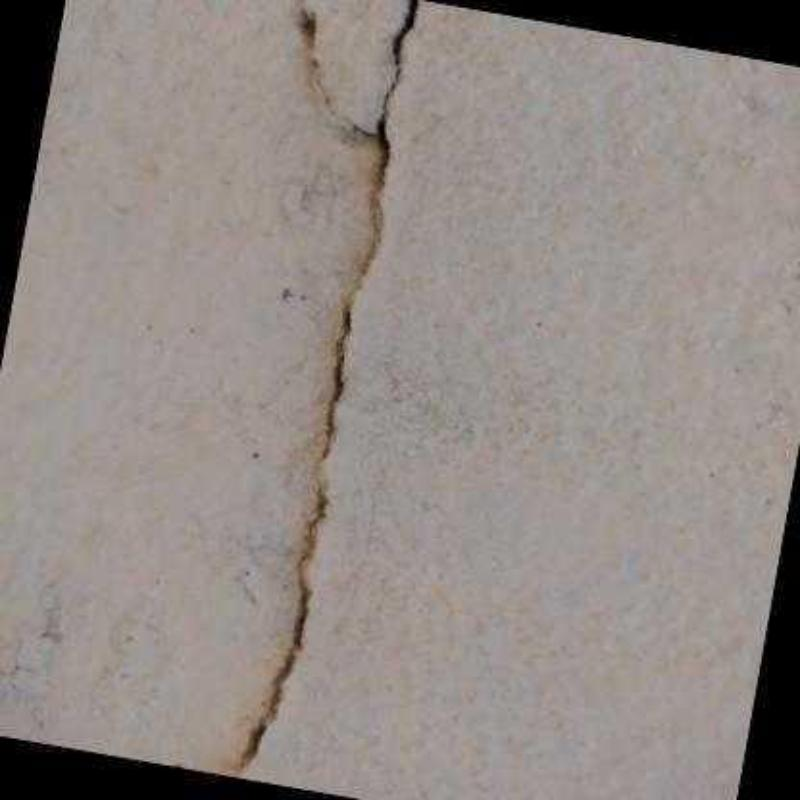crack: (227, 0, 419, 772)
